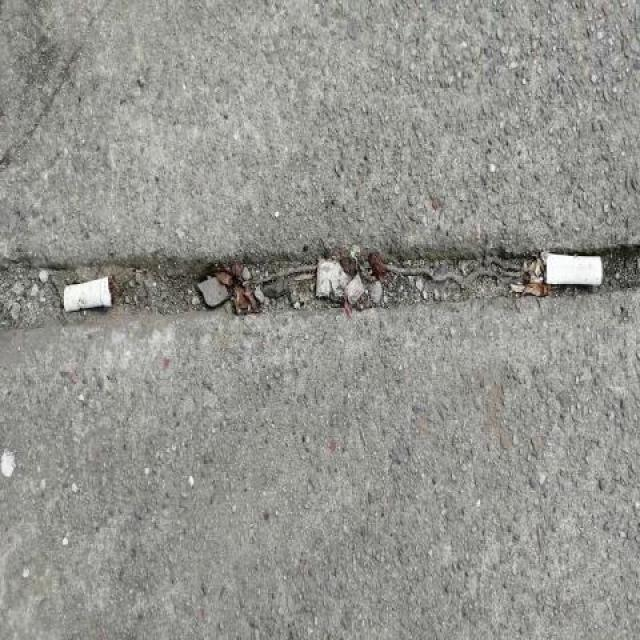non-organic waste: (62, 268, 117, 317), (542, 249, 603, 290)
